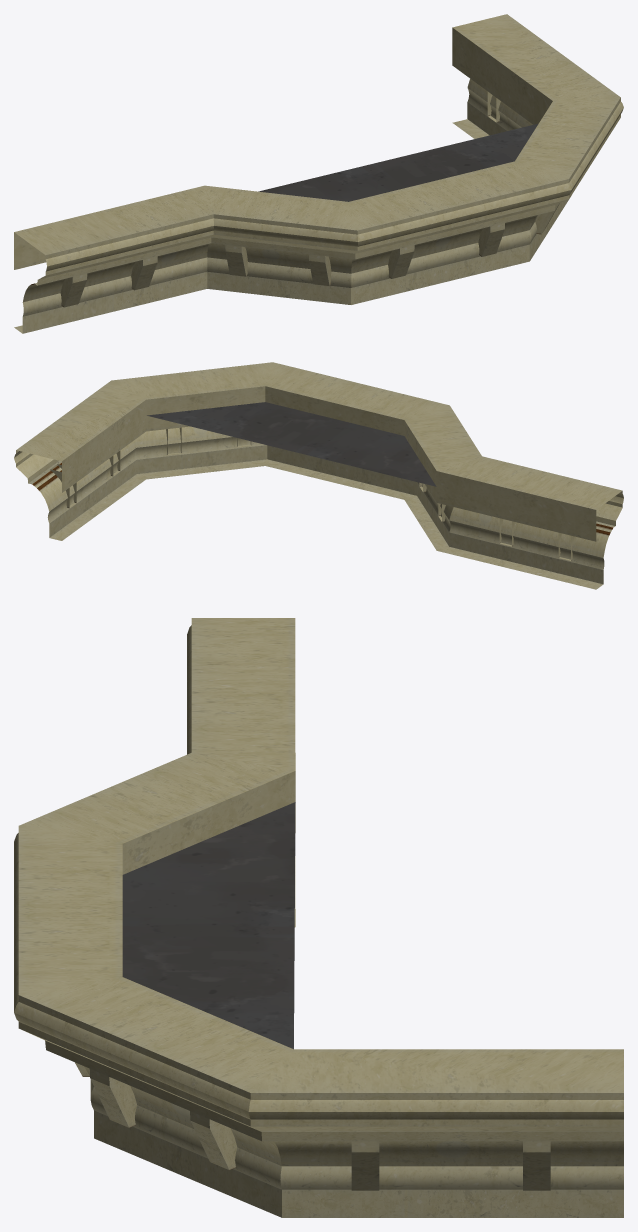
The model's file is Trim_BayWindow_Corner_R.gltf.
3 views of the same model, one above another, from view 1: azimuth 30°, elevation 25°; view 2: azimuth 150°, elevation 25°; view 3: azimuth 270°, elevation 25° (orthographic). The views are drawn at different scales.
Parts seen in each view (by area): view 1: Trim_BayWindow_Corner_R; view 2: Trim_BayWindow_Corner_R; view 3: Trim_BayWindow_Corner_R.
Boxes of the visible parts, left/top/right/bottom form: Trim_BayWindow_Corner_R: left=14, top=14, right=623, bottom=333; Trim_BayWindow_Corner_R: left=14, top=362, right=623, bottom=589; Trim_BayWindow_Corner_R: left=14, top=618, right=623, bottom=1217.
Bounding box in the file's own units: 6.53 × 0.9984 × 3.53.
Materials: 2 (2 with a texture image).
